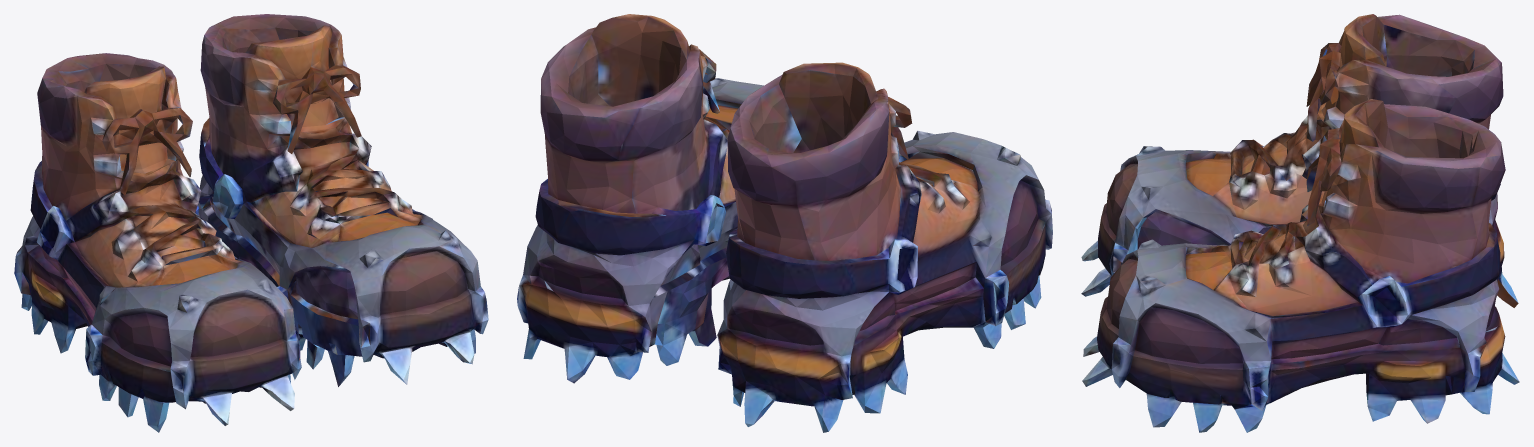
File: spike_boots.glb
3 renders of one model, left to right at view 1: azimuth 30°, elevation 25°; view 2: azimuth 150°, elevation 25°; view 3: azimuth 270°, elevation 25°, orthographic. The views are drawn at different scales.
Parts seen in each view (by area): view 1: tmp70_r39nl.ply; view 2: tmp70_r39nl.ply; view 3: tmp70_r39nl.ply.
Boxes of the visible parts, x1,y1,x2,y2 form: tmp70_r39nl.ply: (14,14,488,432); tmp70_r39nl.ply: (517,14,1052,432); tmp70_r39nl.ply: (1081,14,1519,432).
Size of the model in its own units: 1.97 by 1.41 by 2.
Materials: 1 (1 with a texture image).
